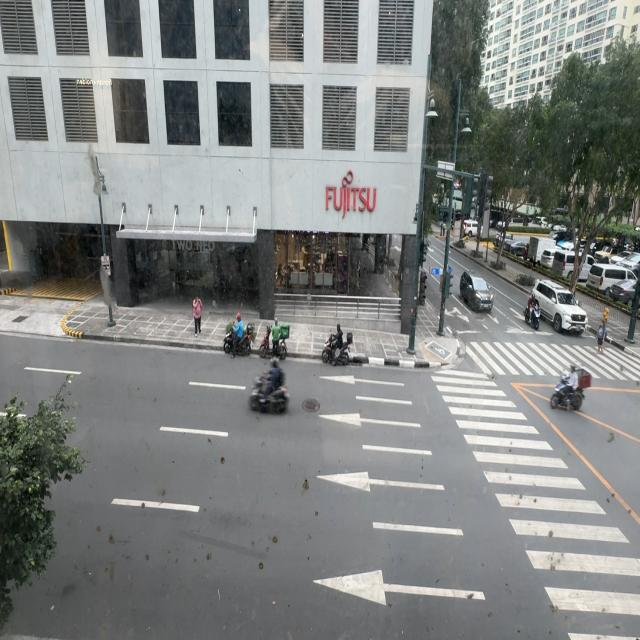crossing: (596, 319, 607, 352)
pedestrain: (192, 295, 202, 336)
